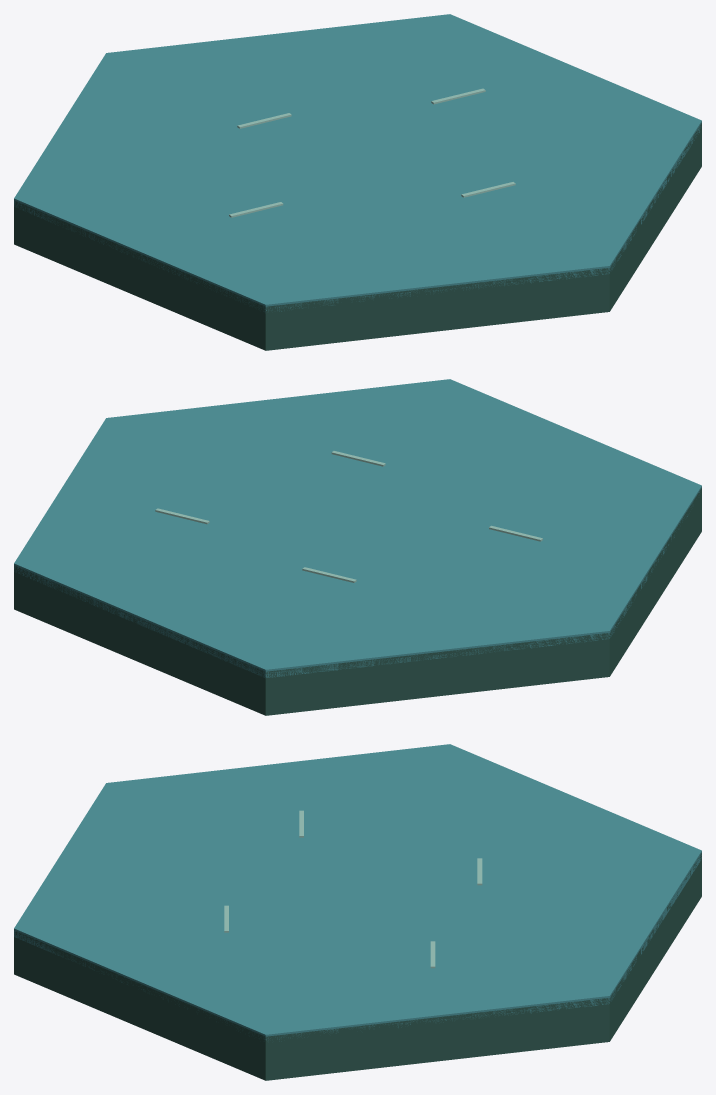
Rendered from water.glb.
3 renders of one model, top to bottom at view 1: azimuth 30°, elevation 25°; view 2: azimuth 150°, elevation 25°; view 3: azimuth 270°, elevation 25°, orthographic.
Visible parts, largest first — view 1: Cone.049, Cone.048; view 2: Cone.049, Cone.048; view 3: Cone.049, Cone.048.
Part boxes in pixels (left/top/right/bottom): Cone.049: left=14, top=14, right=701, bottom=312; Cone.048: left=14, top=123, right=701, bottom=350; Cone.049: left=14, top=379, right=701, bottom=677; Cone.048: left=14, top=488, right=701, bottom=715; Cone.049: left=14, top=744, right=701, bottom=1041; Cone.048: left=14, top=853, right=701, bottom=1080.
Size of the model in its own units: 3.67 by 0.287 by 3.67.
